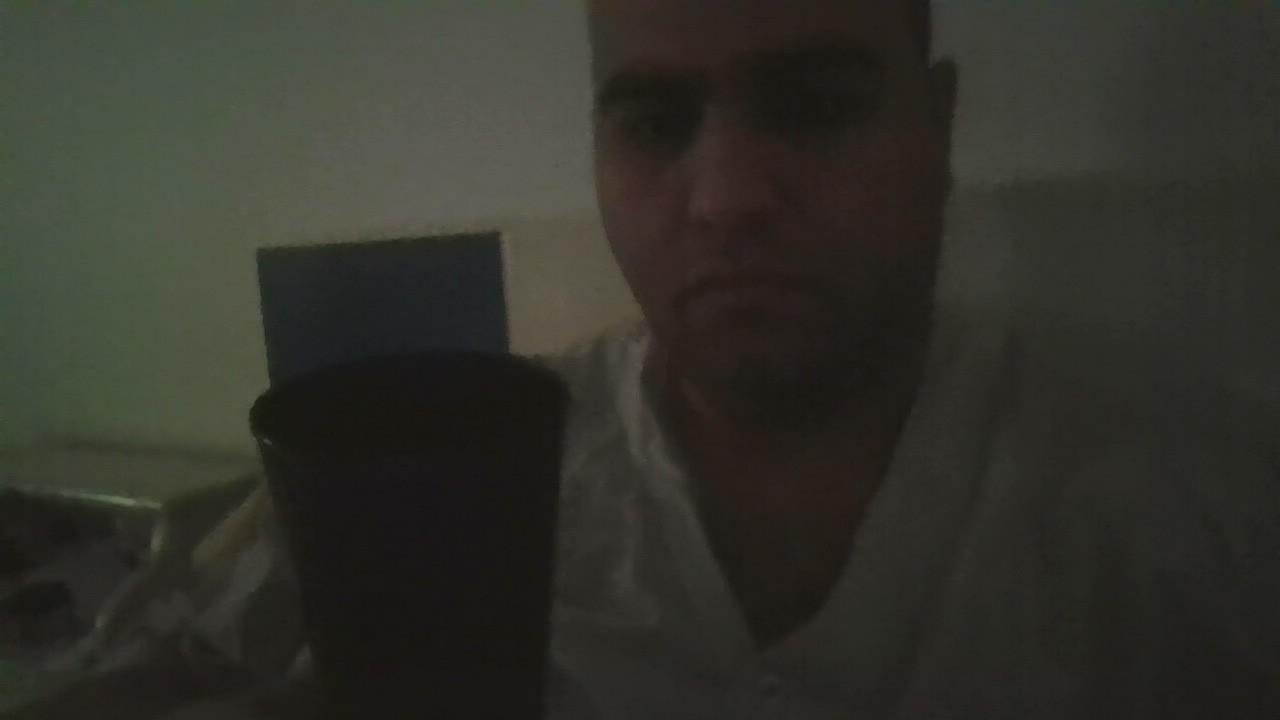cup: (250, 352, 567, 719)
